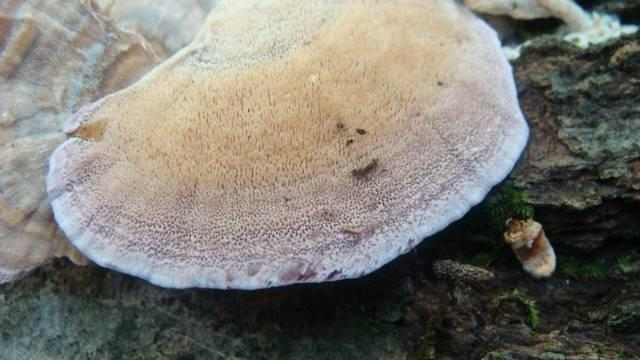Non-edible Mushroom: (44, 0, 531, 292), (502, 215, 557, 279)
